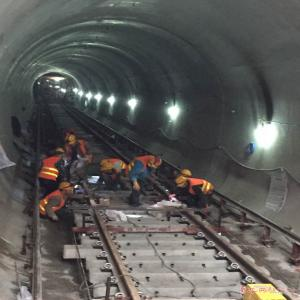yellow: (59, 183, 75, 198), (147, 158, 163, 169), (64, 135, 78, 147), (176, 177, 189, 189), (101, 164, 115, 175)
